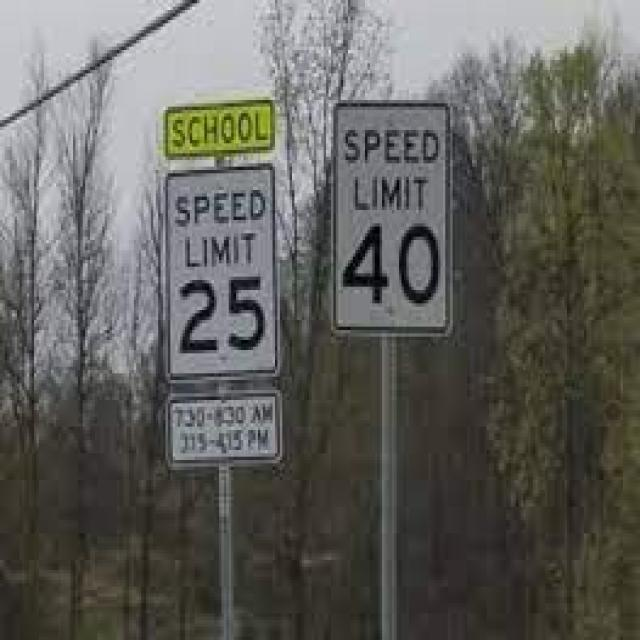speedLimit25: (164, 170, 281, 387)
speedLimit40: (324, 97, 450, 343)
